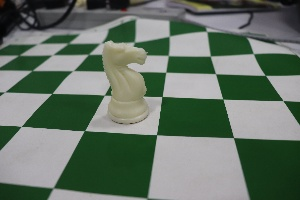white_horse: (92, 32, 153, 136)
